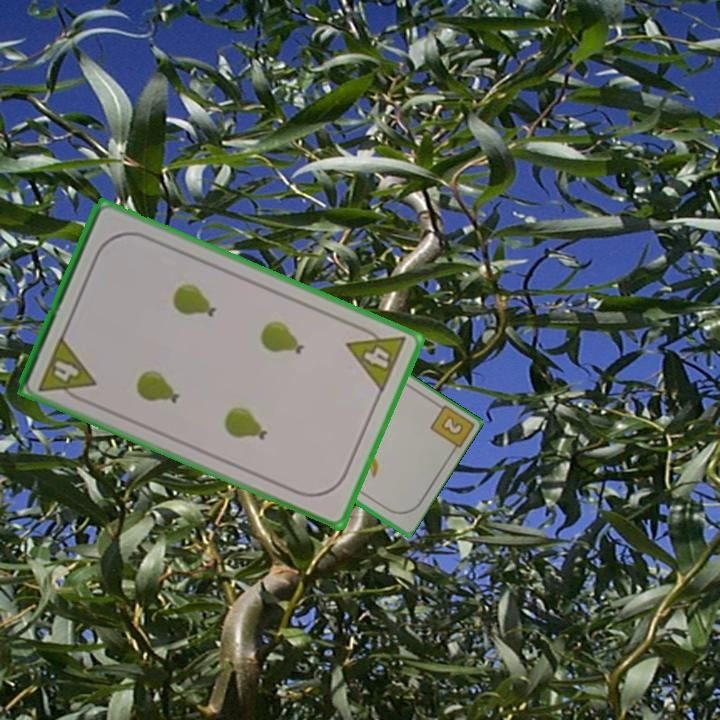2b: (437, 412, 466, 439)
4p: (343, 320, 409, 396), (35, 332, 99, 406)
